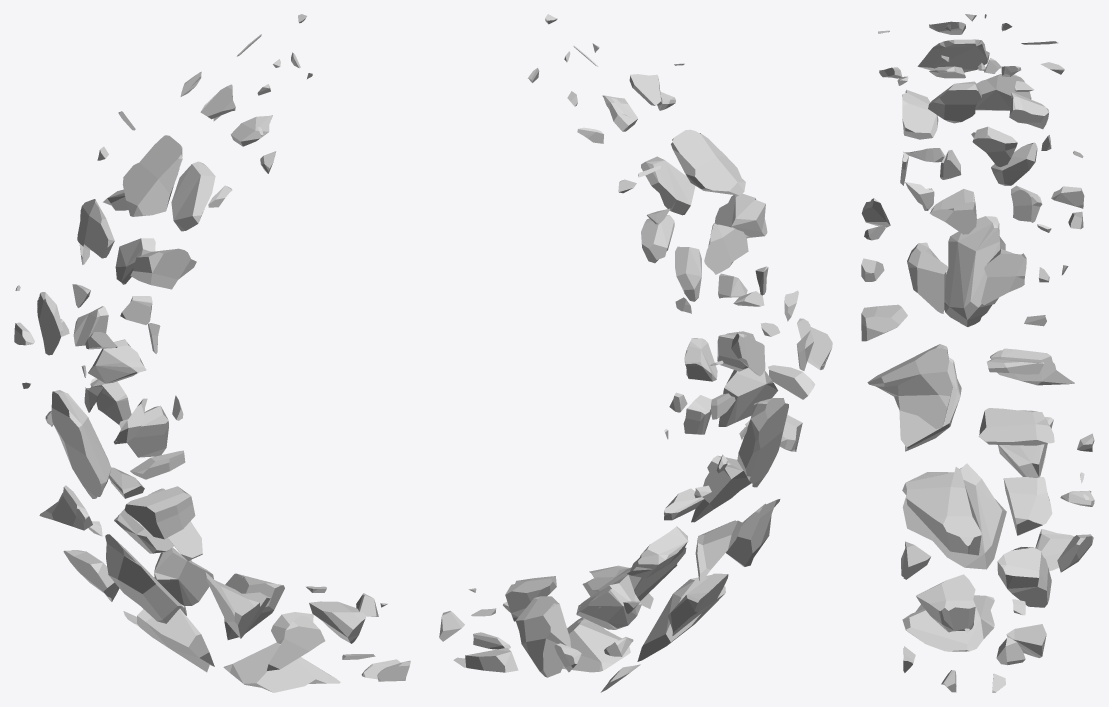
The model's file is arches.glb.
3 renders of one model, left to right at view 1: azimuth 30°, elevation 25°; view 2: azimuth 150°, elevation 25°; view 3: azimuth 270°, elevation 25°, orthographic. The views are drawn at different scales.
Visible parts, largest first — view 1: Structure_1__cell.010_cell; view 2: Structure_1__cell.010_cell; view 3: Structure_1__cell.010_cell.
Part boxes in pixels (bbox=[...]): Structure_1__cell.010_cell: bbox=[14, 14, 410, 692]; Structure_1__cell.010_cell: bbox=[439, 14, 832, 692]; Structure_1__cell.010_cell: bbox=[861, 14, 1094, 692].
Bounding box in the file's own units: 20.49 × 39.71 × 13.13.
Materials: 1 (1 with a texture image).
